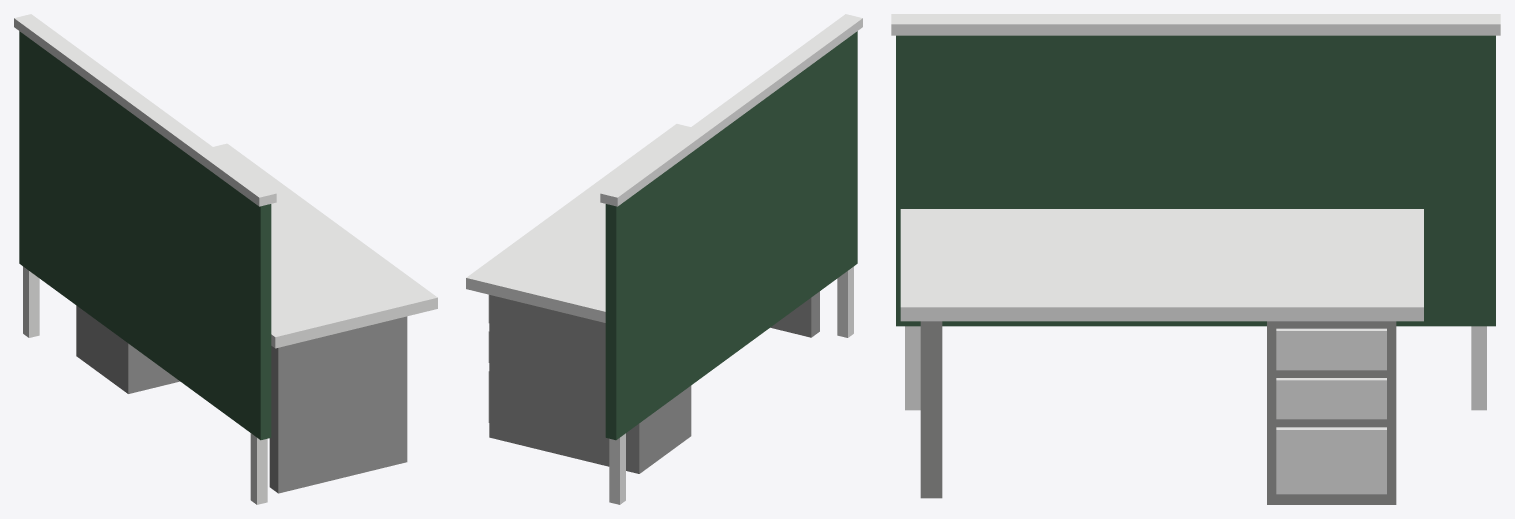
Rendered from staff-desk_final-optimized.glb.
The picture shows the model from 3 angles, left to right: view 1: azimuth 30°, elevation 25°; view 2: azimuth 150°, elevation 25°; view 3: azimuth 270°, elevation 25°; orthographic projection. The views are drawn at different scales.
Visible parts, largest first — view 1: sd_top_P0.004; view 2: sd_top_P0.004; view 3: sd_top_P0.004.
Boxes of the visible parts, x1,y1,x2,y2 form: sd_top_P0.004: (14, 14, 437, 504); sd_top_P0.004: (466, 14, 862, 504); sd_top_P0.004: (891, 14, 1500, 504).
Size of the model in its own units: 0.8499 by 1.39 by 1.98.
